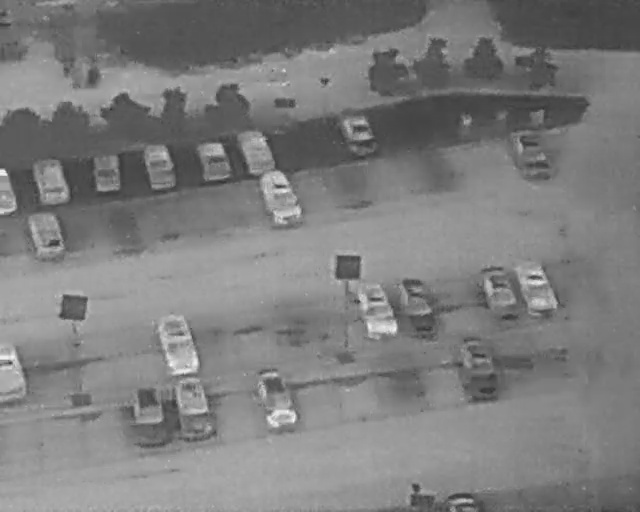Car: (249, 361, 302, 435), (253, 161, 307, 232), (152, 307, 204, 380), (510, 256, 562, 320), (353, 275, 401, 343), (171, 373, 216, 444), (505, 124, 554, 185), (457, 331, 501, 398), (23, 206, 70, 265), (29, 150, 73, 211), (394, 273, 438, 334), (477, 261, 521, 321), (339, 108, 382, 163), (235, 125, 278, 179), (141, 139, 179, 193), (194, 135, 234, 184), (0, 340, 26, 403), (130, 385, 164, 430), (91, 149, 124, 195), (0, 166, 18, 217)
Person: (278, 63, 292, 87)
